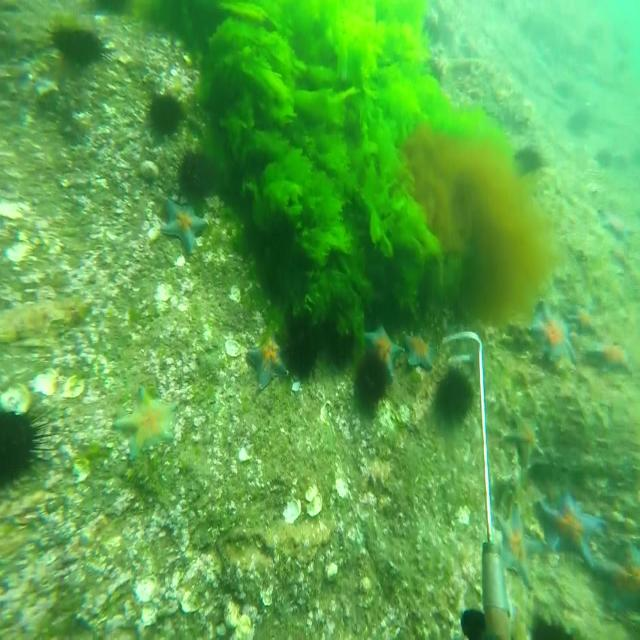echinus: (0, 399, 61, 495), (36, 20, 112, 72), (432, 357, 479, 428), (141, 81, 189, 142), (168, 144, 217, 203), (352, 344, 392, 412), (284, 317, 318, 381), (324, 315, 354, 375), (516, 136, 550, 177), (567, 105, 591, 137), (556, 78, 574, 100), (596, 147, 612, 170)
starfish: (536, 490, 608, 572), (114, 382, 179, 462), (494, 494, 545, 592), (600, 537, 640, 624), (529, 296, 574, 362), (154, 198, 208, 252), (245, 328, 289, 394), (505, 408, 546, 467), (584, 334, 634, 378), (362, 319, 401, 375), (594, 200, 638, 248), (402, 330, 440, 372)
